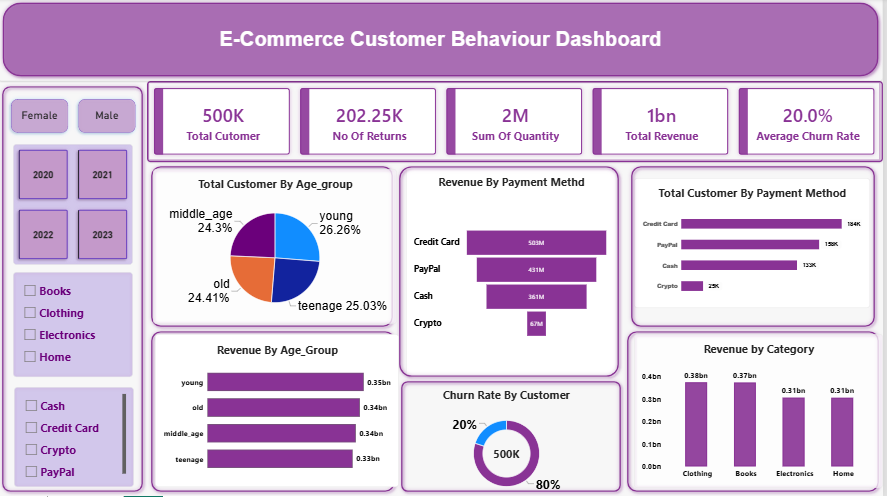

This screenshot's page, from the dashboard's own definition file:
{"tool":"powerbi","page":{"name":"Page 1","canvas":[1920,1080],"ordinal":0},"visuals":[{"type":"group","id":"g1","title":"Group 1","box":[861,355.7,494.5,474.9],"z":0},{"type":"funnel","title":"Revenue By Payment Methd","fields":{"Y":["Sum(e_commerece df.total purchase amount)"],"Category":["e_commerece df.payment method"]},"box":[884.4,366.6,456.3,456.3],"z":0,"group":"g1"},{"type":"shape","box":[323.1,355.7,542.2,366.5],"z":1000},{"type":"shape","box":[861,355.7,494.5,474.9],"z":1000,"group":"g1"},{"type":"shape","box":[323.1,713.5,546.5,366.5],"z":2000},{"type":"shape","box":[1355.4,713.5,563.9,366.5],"z":3000},{"type":"shape","box":[865.3,821.9,494.5,258.1],"z":4000},{"type":"cardVisual","fields":{"Data":["e_commerece df.total cutomer","e_commerece df.total no of returns","Sum(e_commerece df.quantity)","Sum(e_commerece df.total purchase amount)","e_commerece df.average churn rate"]},"box":[323.1,180,1596.1,175.7],"z":5000},{"type":"shape","box":[0,0,1919.3,180],"z":6000},{"type":"pieChart","title":"Total Customer By Age_group","fields":{"Category":["e_commerece df.age_group"],"Y":["CountNonNull(e_commerece df.customer id)"]},"box":[336.1,370.8,529.2,336.1],"z":7000},{"type":"columnChart","title":" Revenue by Category","fields":{"Category":["e_commerece df.product category"],"Y":["Sum(e_commerece df.total purchase amount)"]},"box":[1379.3,728.7,540,334],"z":8000},{"type":"clusteredBarChart","title":"Total Customer By Payment Method","fields":{"Category":["e_commerece df.payment method"],"Y":["CountNonNull(e_commerece df.customer id)"]},"box":[1379.3,390.4,511.8,281.9],"z":10000},{"type":"shape","box":[0,182.2,323.1,897.8],"z":11000},{"type":"advancedSlicerVisual","fields":{"Values":["e_commerece df.gender"]},"box":[18,208,292.8,95.4],"z":12000},{"type":"advancedSlicerVisual","fields":{"Values":["e_commerece df.purchase date.Variation.Date Hierarchy.Year"]},"box":[32.5,316.6,260.2,262.4],"z":13000},{"type":"slicer","fields":{"Values":["e_commerece df.product category"]},"box":[32.5,594.2,260.2,227.7],"z":14000},{"type":"barChart","title":"Revenue By Age_Group","fields":{"Y":["Sum(e_commerece df.total purchase amount)"],"Category":["e_commerece df.age_group"]},"box":[340.5,728.7,529.2,331.8],"z":15000},{"type":"donutChart","title":"Churn Rate By Customer","fields":{"Y":["CountNonNull(e_commerece df.customer id)"],"Category":["e_commerece df.churn"]},"box":[884.8,843.6,435.9,236.4],"z":16000},{"type":"slicer","fields":{"Values":["e_commerece df.payment method"]},"box":[34.7,843.6,260.2,216.9],"z":17000},{"type":"shape","box":[1364.1,355.7,546.5,366.5],"z":18000}]}

Visuals, with their boxes in screenshot pixels (x1, y1, x2, y2), scaled from the page's 1920x1080 canvas onto the 887x497 screenshot:
"Group 1" group: (x1=398, y1=164, x2=626, y2=382)
"Revenue By Payment Methd" funnel: (x1=409, y1=169, x2=619, y2=379)
shape: (x1=149, y1=164, x2=400, y2=332)
shape: (x1=398, y1=164, x2=626, y2=382)
shape: (x1=149, y1=328, x2=402, y2=496)
shape: (x1=626, y1=328, x2=886, y2=496)
shape: (x1=400, y1=378, x2=628, y2=496)
cardVisual - e_commerece df.total cutomer x e_commerece df.total no of returns: (x1=149, y1=83, x2=886, y2=164)
shape: (x1=0, y1=0, x2=886, y2=83)
"Total Customer By Age_group" pieChart: (x1=155, y1=171, x2=400, y2=325)
" Revenue by Category" columnChart: (x1=637, y1=335, x2=886, y2=489)
"Total Customer By Payment Method" clusteredBarChart: (x1=637, y1=180, x2=874, y2=309)
shape: (x1=0, y1=84, x2=149, y2=496)
advancedSlicerVisual - e_commerece df.gender: (x1=8, y1=96, x2=144, y2=140)
advancedSlicerVisual - e_commerece df.purchase date.Variation.Date Hierarchy.Year: (x1=15, y1=146, x2=135, y2=266)
slicer - e_commerece df.product category: (x1=15, y1=273, x2=135, y2=378)
"Revenue By Age_Group" barChart: (x1=157, y1=335, x2=402, y2=488)
"Churn Rate By Customer" donutChart: (x1=409, y1=388, x2=610, y2=496)
slicer - e_commerece df.payment method: (x1=16, y1=388, x2=136, y2=488)
shape: (x1=630, y1=164, x2=883, y2=332)
